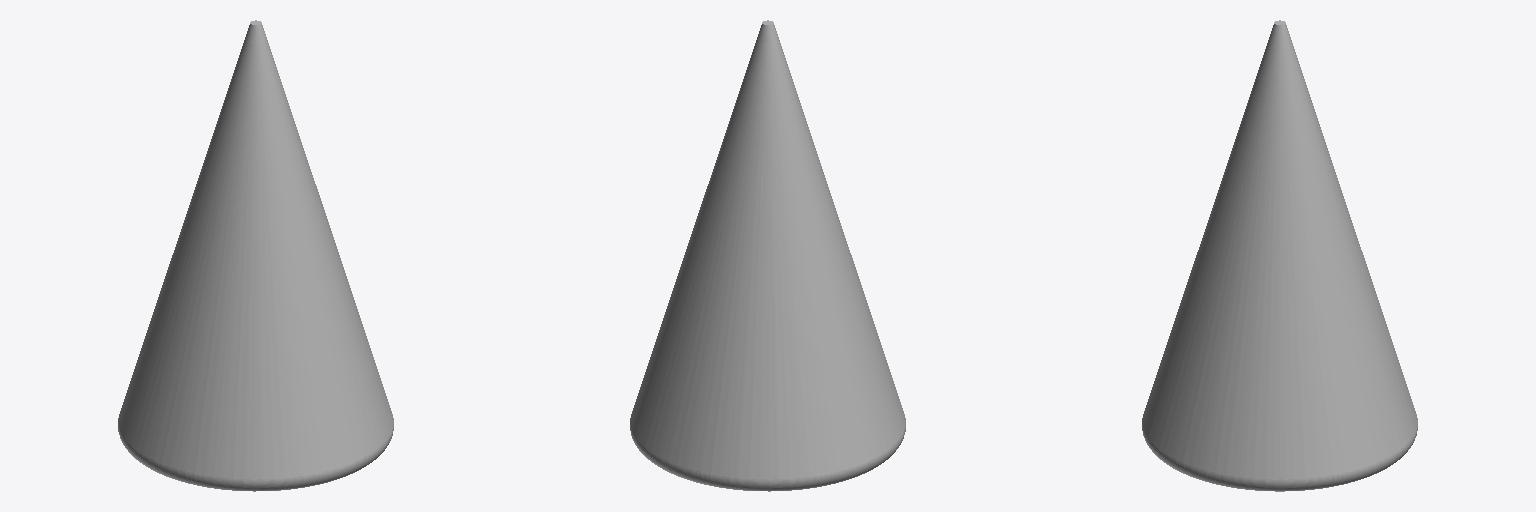
The robot description file, URDF, robot "root":
<robot name="root">
  <link name="link_cone_convex_piece_0">
    <inertial>
      <origin xyz="0 0 0" rpy="0 0 0"/>
      <mass value="1.12E-01"/>
      <inertia ixx="7.58E-05" ixy="-8.49E-22" ixz="9.98E-11" iyy="7.58E-05" iyz="-2.38E-21" izz="3.98E-05"/>
    </inertial>
    <visual>
      <origin xyz="0 0 0" rpy="0 0 0"/>
      <geometry>
        <mesh filename="cone_convex_piece_0.obj" scale="1.0000E+00 1.0000E+00 1.0000E+00"/>
      </geometry>
      <material name="">
        <color rgba="7.50E-01 7.50E-01 7.50E-01 1"/>
      </material>
    </visual>
    <collision>
      <origin xyz="0 0 0" rpy="0 0 0"/>
      <geometry>
        <mesh filename="cone_convex_piece_0.obj" scale="1.0000E+00 1.0000E+00 1.0000E+00"/>
      </geometry>
    </collision>
  </link>
</robot>

--- Render facts (derived) ---
The picture shows the robot from 3 angles, left to right: view 1: azimuth 30°, elevation 25°; view 2: azimuth 150°, elevation 25°; view 3: azimuth 270°, elevation 25°; orthographic projection.
Robot: root — 1 links, 0 joints (none); root link link_cone_convex_piece_0; default pose: every joint at zero.
Links seen in each view (by area): view 1: link_cone_convex_piece_0; view 2: link_cone_convex_piece_0; view 3: link_cone_convex_piece_0.
Link boxes in pixels (x1=…): link_cone_convex_piece_0: x1=118, y1=20, x2=393, y2=491; link_cone_convex_piece_0: x1=630, y1=20, x2=905, y2=491; link_cone_convex_piece_0: x1=1142, y1=20, x2=1417, y2=491.
Size in the robot's own frame: 0.0671 by 0.0671 by 0.1112 metres.
Meshes: 1 distinct files referenced, 1 mesh visuals loaded (1 OBJ).
